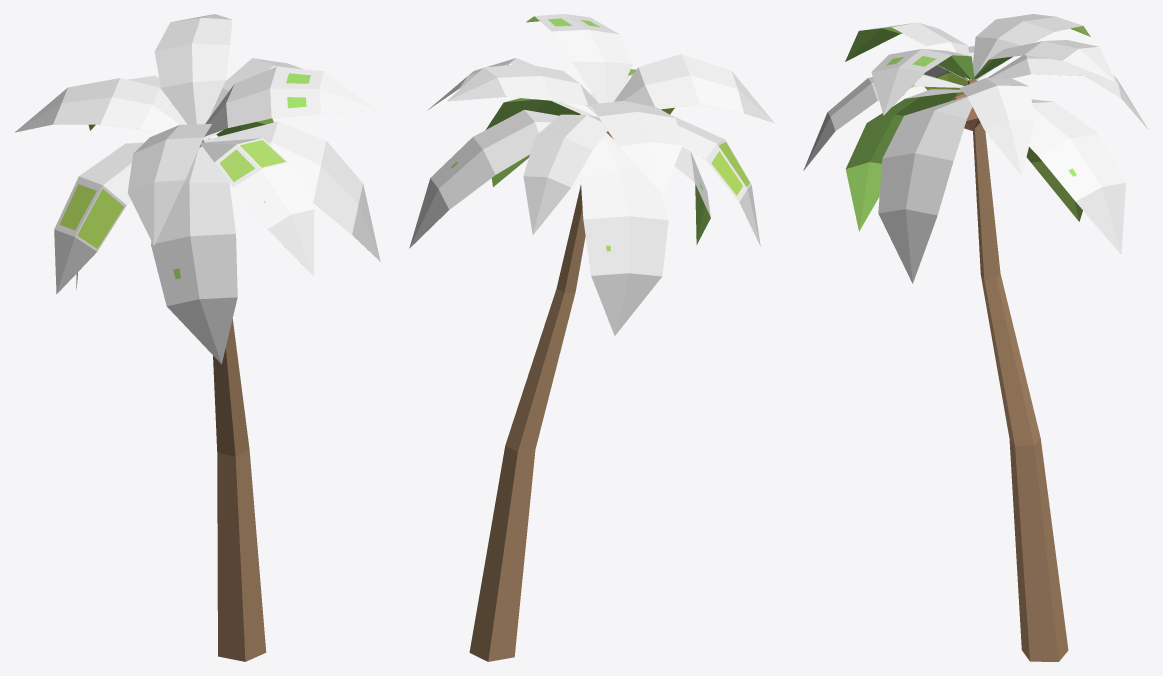
The model's file is Palm_Tree_Coconut_l_Snow_06.fbx.
3 views of the same model, side by side, from view 1: azimuth 30°, elevation 25°; view 2: azimuth 150°, elevation 25°; view 3: azimuth 270°, elevation 25° (orthographic). The views are drawn at different scales.
Parts seen in each view (by area): view 1: Palm_Tree_Coconut_l_Snow_06; view 2: Palm_Tree_Coconut_l_Snow_06; view 3: Palm_Tree_Coconut_l_Snow_06.
Boxes of the visible parts, x1,y1,x2,y2 form: Palm_Tree_Coconut_l_Snow_06: (15, 14, 380, 661); Palm_Tree_Coconut_l_Snow_06: (409, 14, 774, 661); Palm_Tree_Coconut_l_Snow_06: (803, 14, 1148, 661).
Size of the model in its own units: 377 by 712 by 375.
